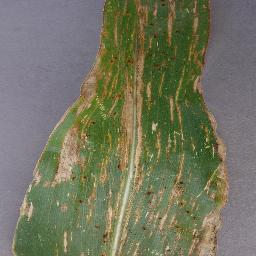Gray_Leaf_Spot: (159, 0, 232, 256), (68, 83, 157, 256), (82, 0, 158, 83), (15, 156, 44, 225), (47, 111, 69, 188), (59, 201, 69, 256)
